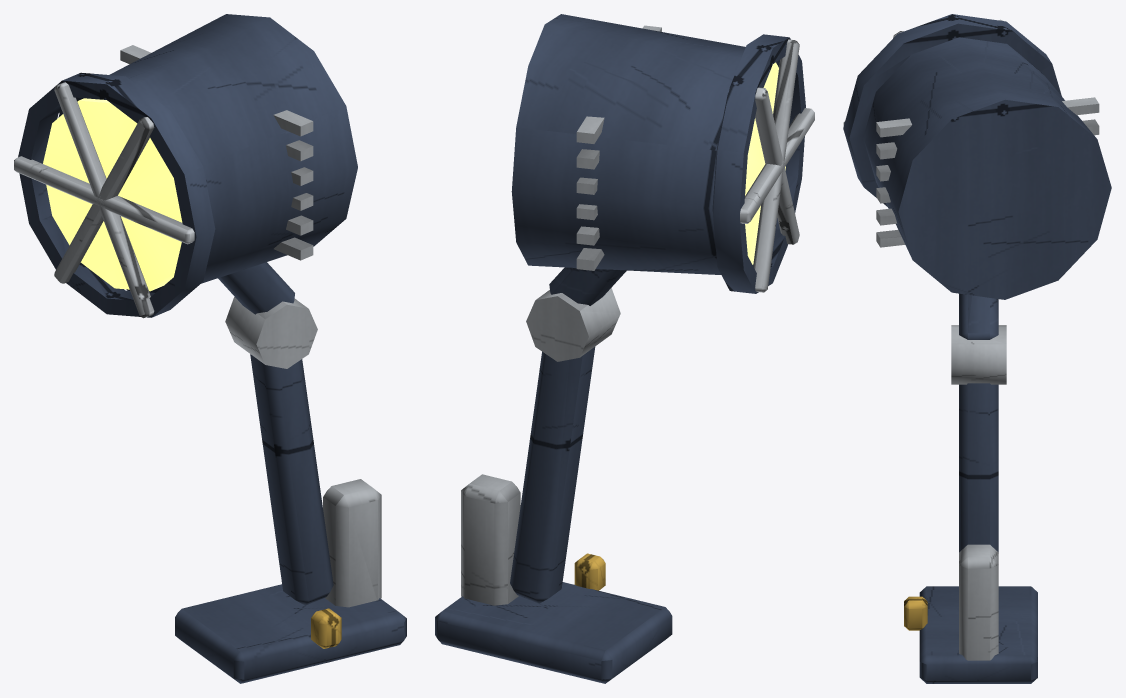
Rendered from work_lamp.glb.
3 views of the same model, side by side, from view 1: azimuth 30°, elevation 25°; view 2: azimuth 150°, elevation 25°; view 3: azimuth 270°, elevation 25° (orthographic). The views are drawn at different scales.
Visible parts, largest first — view 1: DL020_WorkLamp_graphite_navy, DL020_WorkLamp_titanium, DL020_WorkLamp_emissive_amber, DL020_WorkLamp_amber_accent; view 2: DL020_WorkLamp_graphite_navy, DL020_WorkLamp_titanium, DL020_WorkLamp_emissive_amber, DL020_WorkLamp_amber_accent; view 3: DL020_WorkLamp_graphite_navy, DL020_WorkLamp_titanium, DL020_WorkLamp_amber_accent.
Part boxes in pixels (<box>): DL020_WorkLamp_graphite_navy: <box>18,14,406,683</box>; DL020_WorkLamp_titanium: <box>14,45,381,607</box>; DL020_WorkLamp_emissive_amber: <box>43,98,182,291</box>; DL020_WorkLamp_amber_accent: <box>311,608,341,648</box>; DL020_WorkLamp_graphite_navy: <box>435,14,805,683</box>; DL020_WorkLamp_titanium: <box>461,25,814,605</box>; DL020_WorkLamp_emissive_amber: <box>745,62,785,264</box>; DL020_WorkLamp_amber_accent: <box>574,553,605,590</box>; DL020_WorkLamp_graphite_navy: <box>843,14,1111,683</box>; DL020_WorkLamp_titanium: <box>843,19,1099,660</box>; DL020_WorkLamp_amber_accent: <box>904,596,927,630</box>.
Bounding box in the file's own units: 0.8348 × 1.54 × 0.6809.
4 materials, 3 textured.
